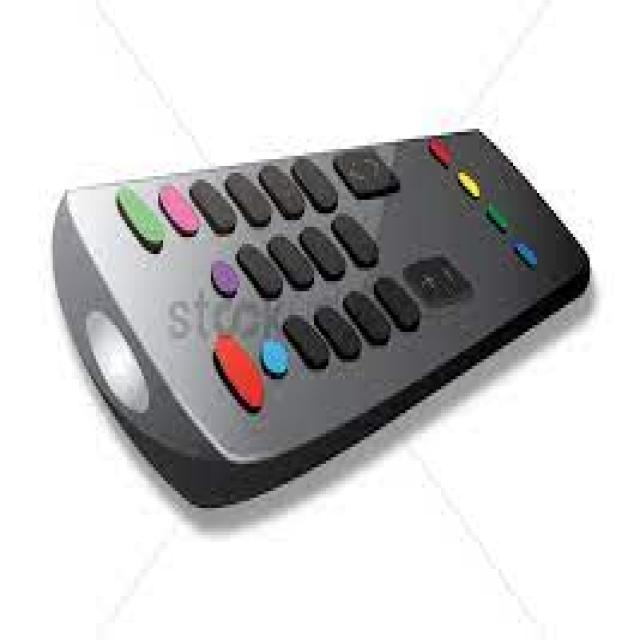remote: (49, 123, 599, 529)
